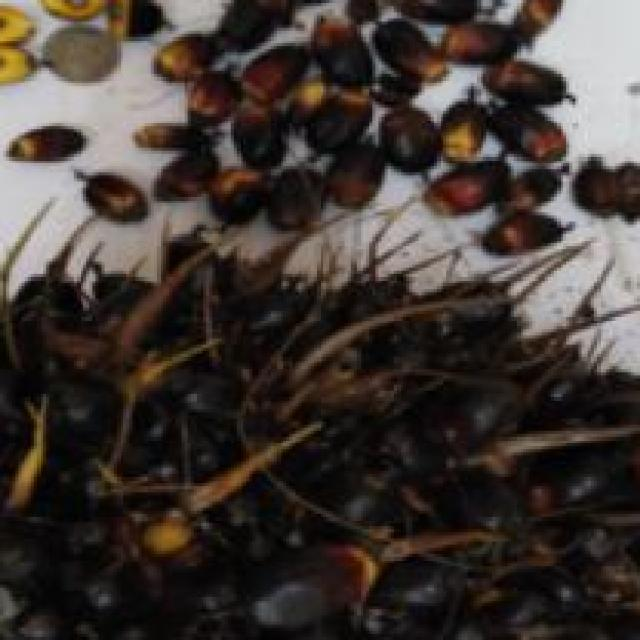unripe: (0, 191, 640, 640)
